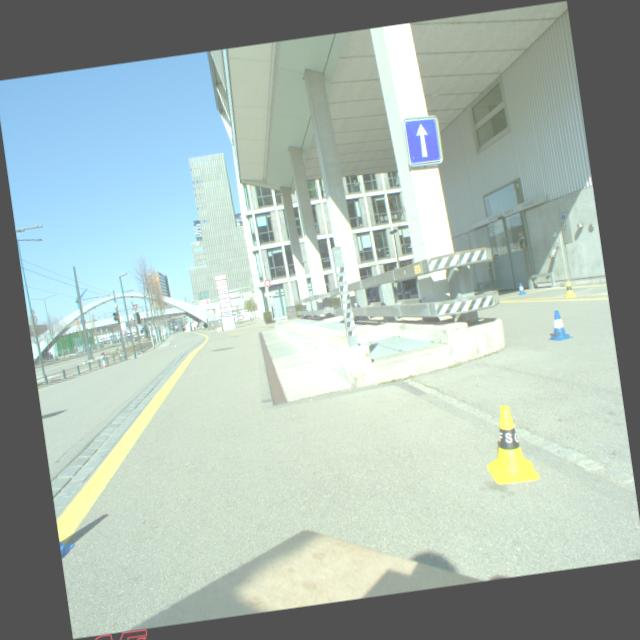blue_cone: (544, 309, 574, 343), (517, 282, 526, 295)
yellow_cone: (478, 402, 540, 487), (562, 281, 576, 298)
